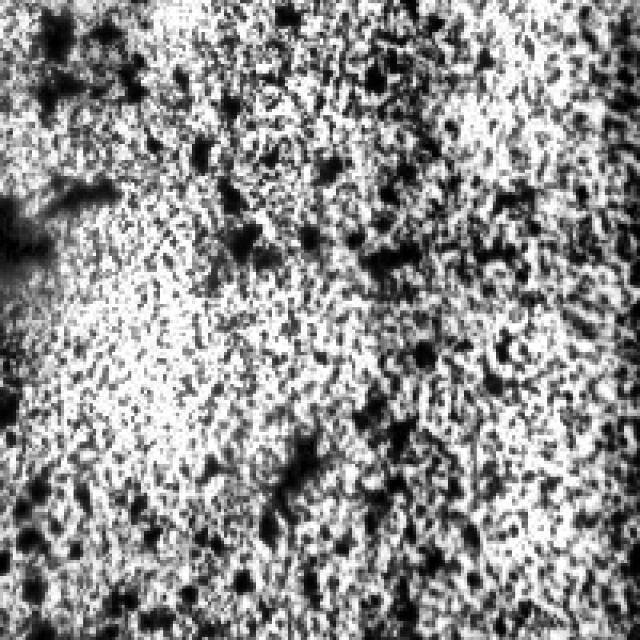Rolled_in_Scale: (102, 6, 628, 621)
Scratches: (0, 3, 109, 285)
